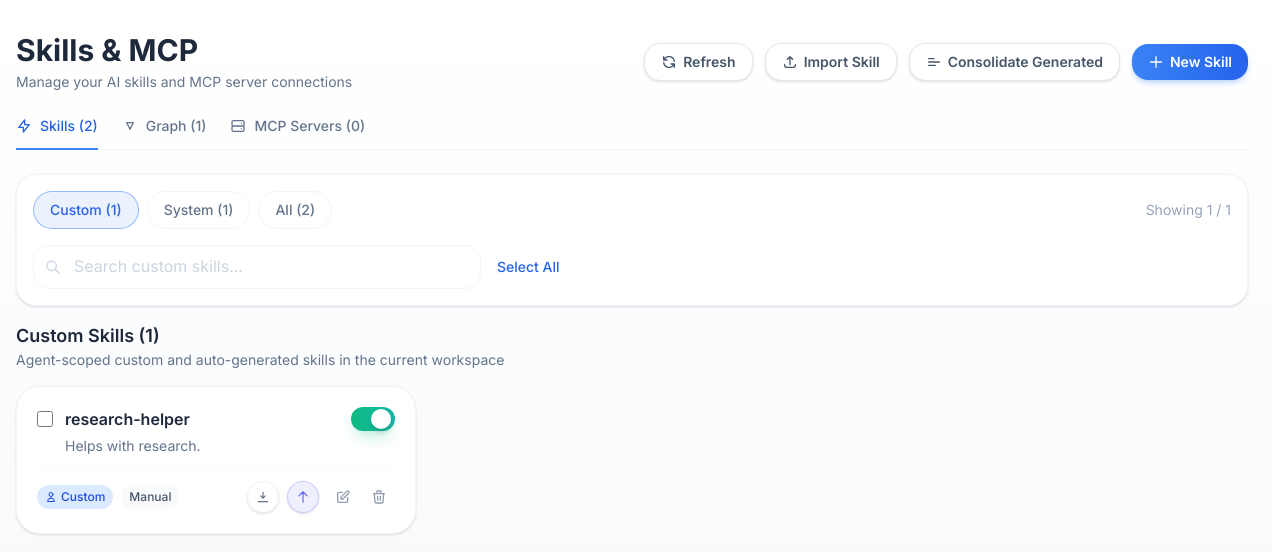
Test: SkillsPage › promotes a custom skill to builtin and refreshes the list
The width and height of the screenshot is (1272, 552).
expect the heading "research-helper" is shown: met, box [65,407,190,432]
Click the button named "Promote to Builtin" at x=303, y=497, box [287,481,319,513]
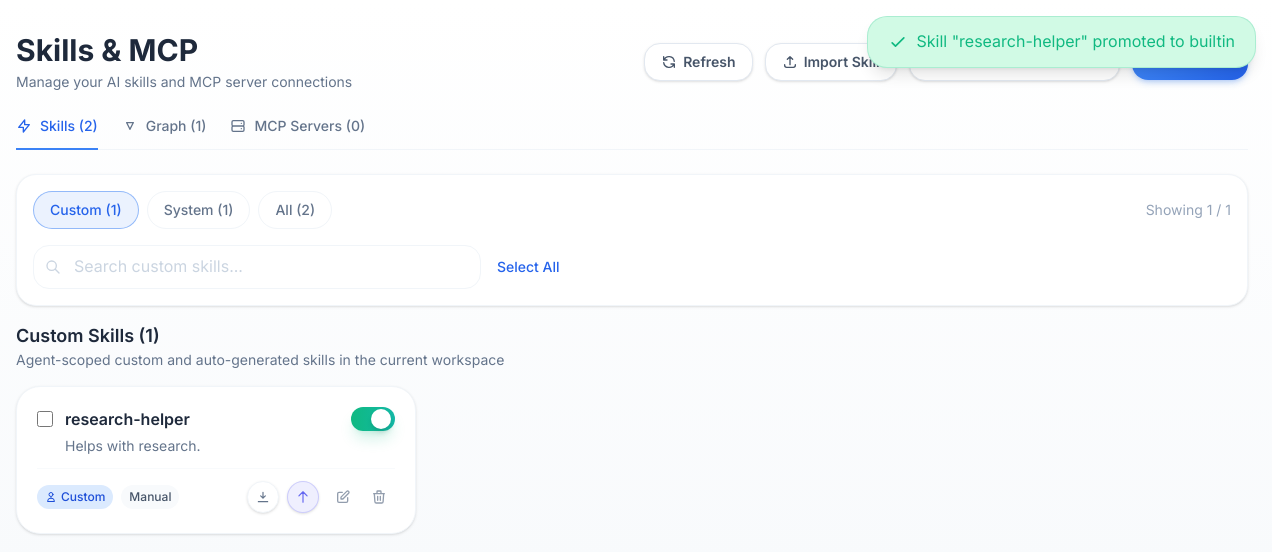
expect the text "Skill \"research-helper\" promoted to builtin" is shown: met, box [888,29,1235,55]
